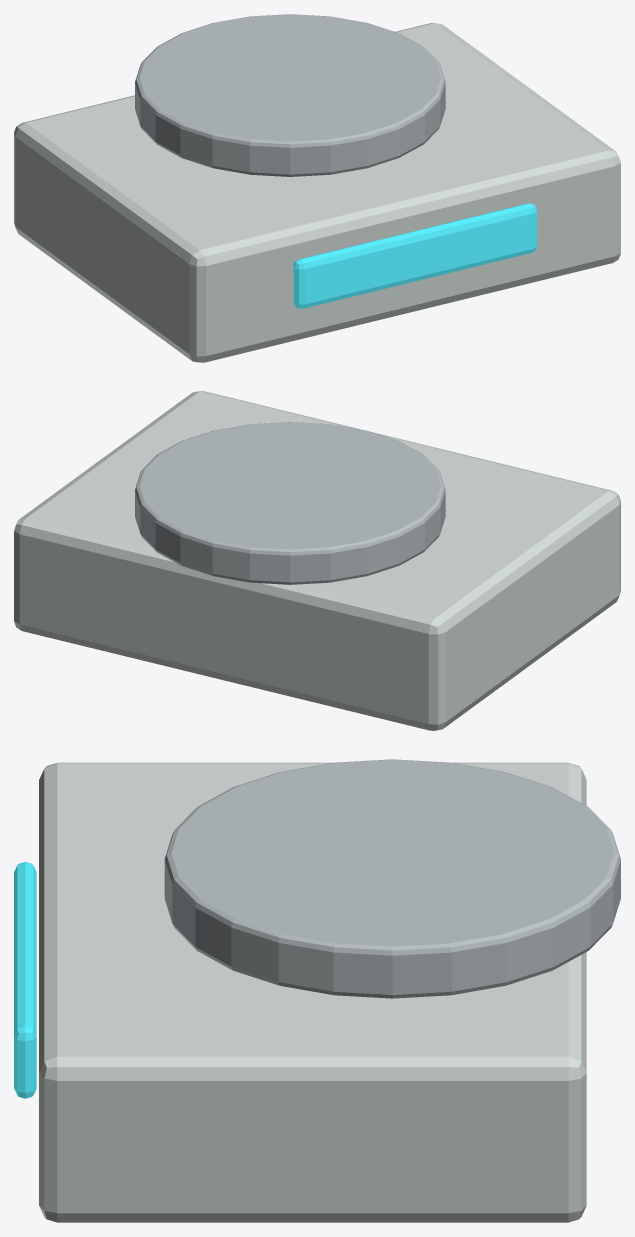
The model's file is PrecisionBalance.fbx.
3 views of the same model, one above another, from view 1: azimuth 30°, elevation 25°; view 2: azimuth 150°, elevation 25°; view 3: azimuth 270°, elevation 25° (orthographic). The views are drawn at different scales.
Parts seen in each view (by area): view 1: BalanceBase, WeighingPan, Readout; view 2: BalanceBase, WeighingPan; view 3: BalanceBase, WeighingPan, Readout.
Part boxes in pixels (box(x1,y1,x2,y2)): BalanceBase: box(14, 23, 620, 362); WeighingPan: box(135, 14, 445, 176); Readout: box(293, 203, 537, 308); BalanceBase: box(14, 391, 620, 730); WeighingPan: box(135, 422, 445, 584); BalanceBase: box(39, 762, 586, 1222); WeighingPan: box(164, 759, 620, 998); Readout: box(14, 862, 36, 1098).
Size of the model in its own units: 32 by 10.75 by 26.6.
